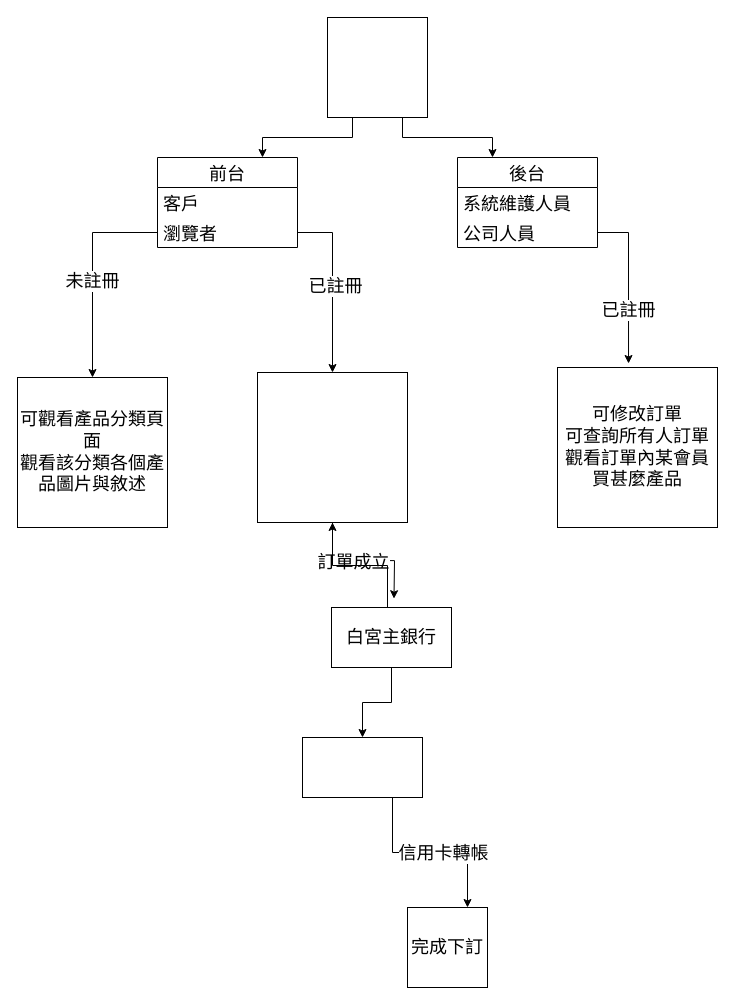
This 735x1005 diagram has some shape labels left out. The centre of each missing label's shape, as x and y in pixels:
可使用購物車功能 挑選產品產生訂單 可觀看產品分類頁面 觀看該分類各個產品圖片與敘述: the point at 332,447
購買平台: the point at 377,67
金流驗證系統: the point at 362,767
